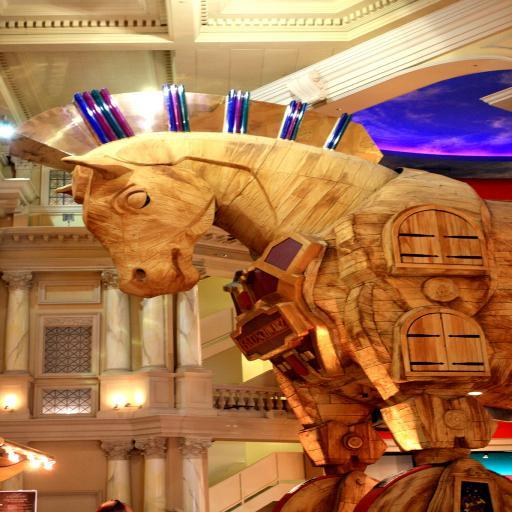Horse: (7, 84, 511, 512)
